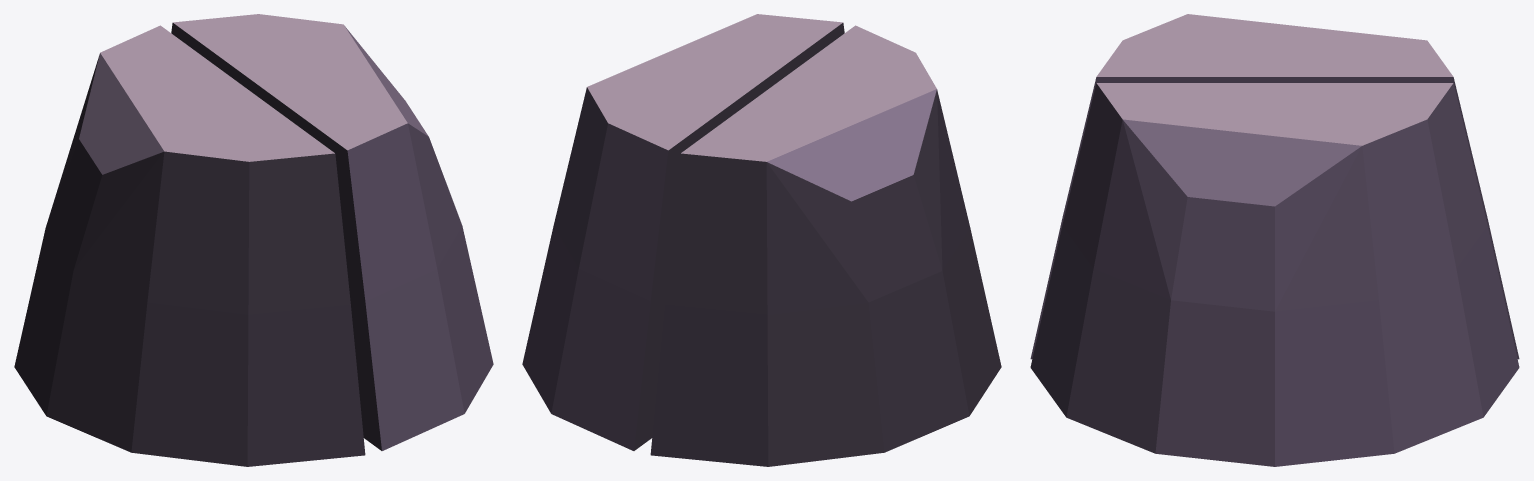
Rendered from TW_PROP_STUMP_SPLIT_A_LOD0.glb.
3 renders of one model, left to right at view 1: azimuth 30°, elevation 25°; view 2: azimuth 150°, elevation 25°; view 3: azimuth 270°, elevation 25°, orthographic. The views are drawn at different scales.
Visible parts, largest first — view 1: TW_PROP_STUMP_SPLIT_A_LOD0; view 2: TW_PROP_STUMP_SPLIT_A_LOD0; view 3: TW_PROP_STUMP_SPLIT_A_LOD0.
Boxes of the visible parts, x1,y1,x2,y2 form: TW_PROP_STUMP_SPLIT_A_LOD0: (14,14,493,466); TW_PROP_STUMP_SPLIT_A_LOD0: (522,14,1001,466); TW_PROP_STUMP_SPLIT_A_LOD0: (1030,14,1519,466).
Size of the model in its own units: 0.782 by 0.5 by 0.7814.
Materials: 1 (1 with a texture image).
